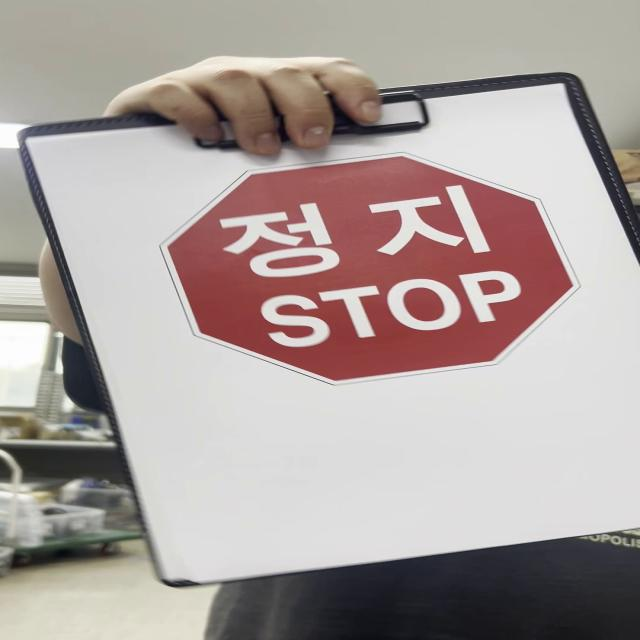stop: (166, 155, 587, 387)
